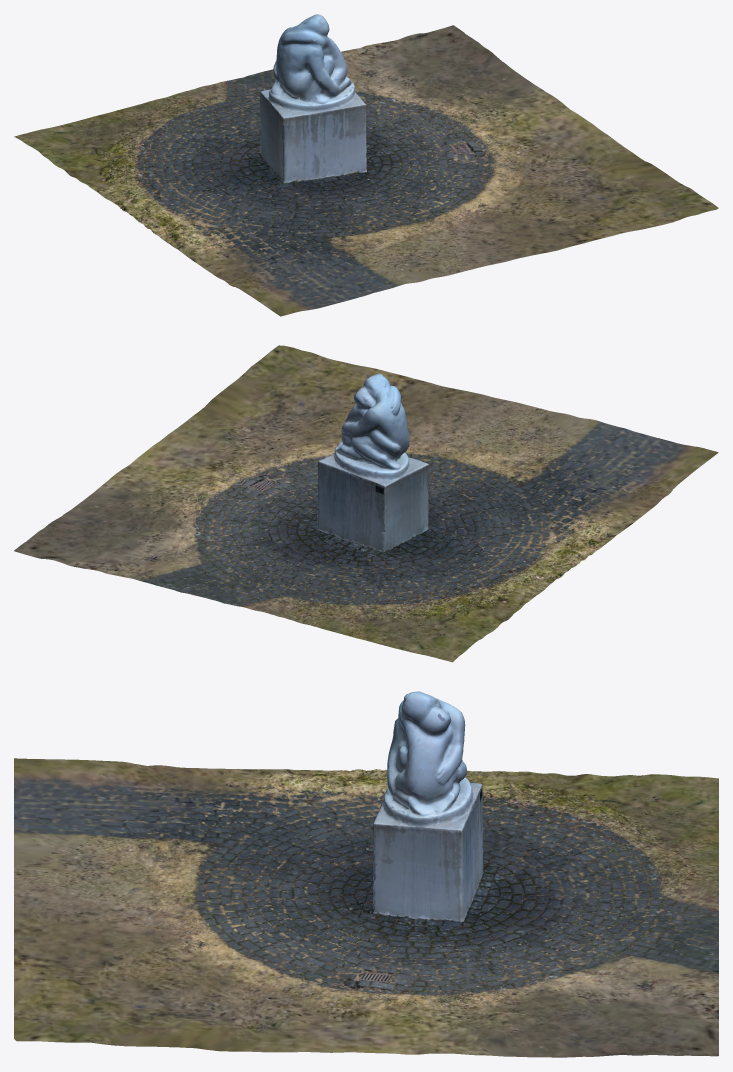
The model's file is hugs.obj.
3 renders of one model, top to bottom at view 1: azimuth 30°, elevation 25°; view 2: azimuth 150°, elevation 25°; view 3: azimuth 270°, elevation 25°, orthographic. The views are drawn at different scales.
Parts seen in each view (by area): view 1: Object; view 2: Object; view 3: Object.
Boxes of the visible parts, x1,y1,x2,y2 form: Object: (14,14,718,316); Object: (14,345,718,662); Object: (14,691,718,1057).
Bounding box in the file's own units: 5.94 × 2.03 × 6.24.
